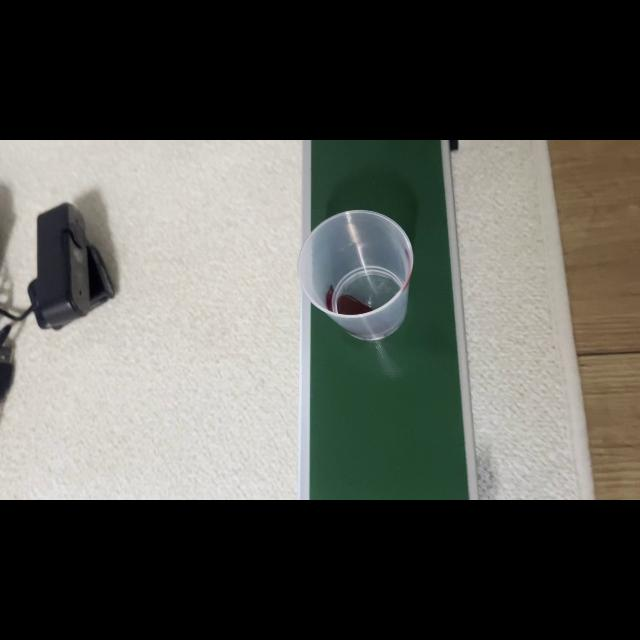dirty: (304, 220, 414, 338)
